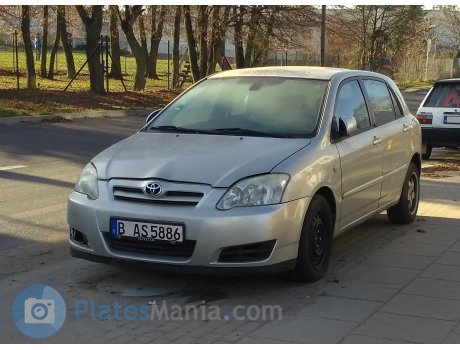License Plates: (118, 218, 184, 236)
